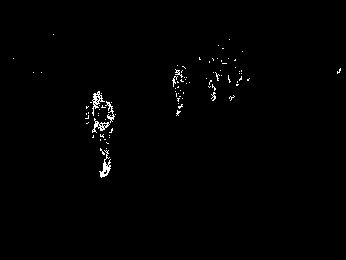person: (87, 90, 116, 177), (171, 64, 190, 116)
